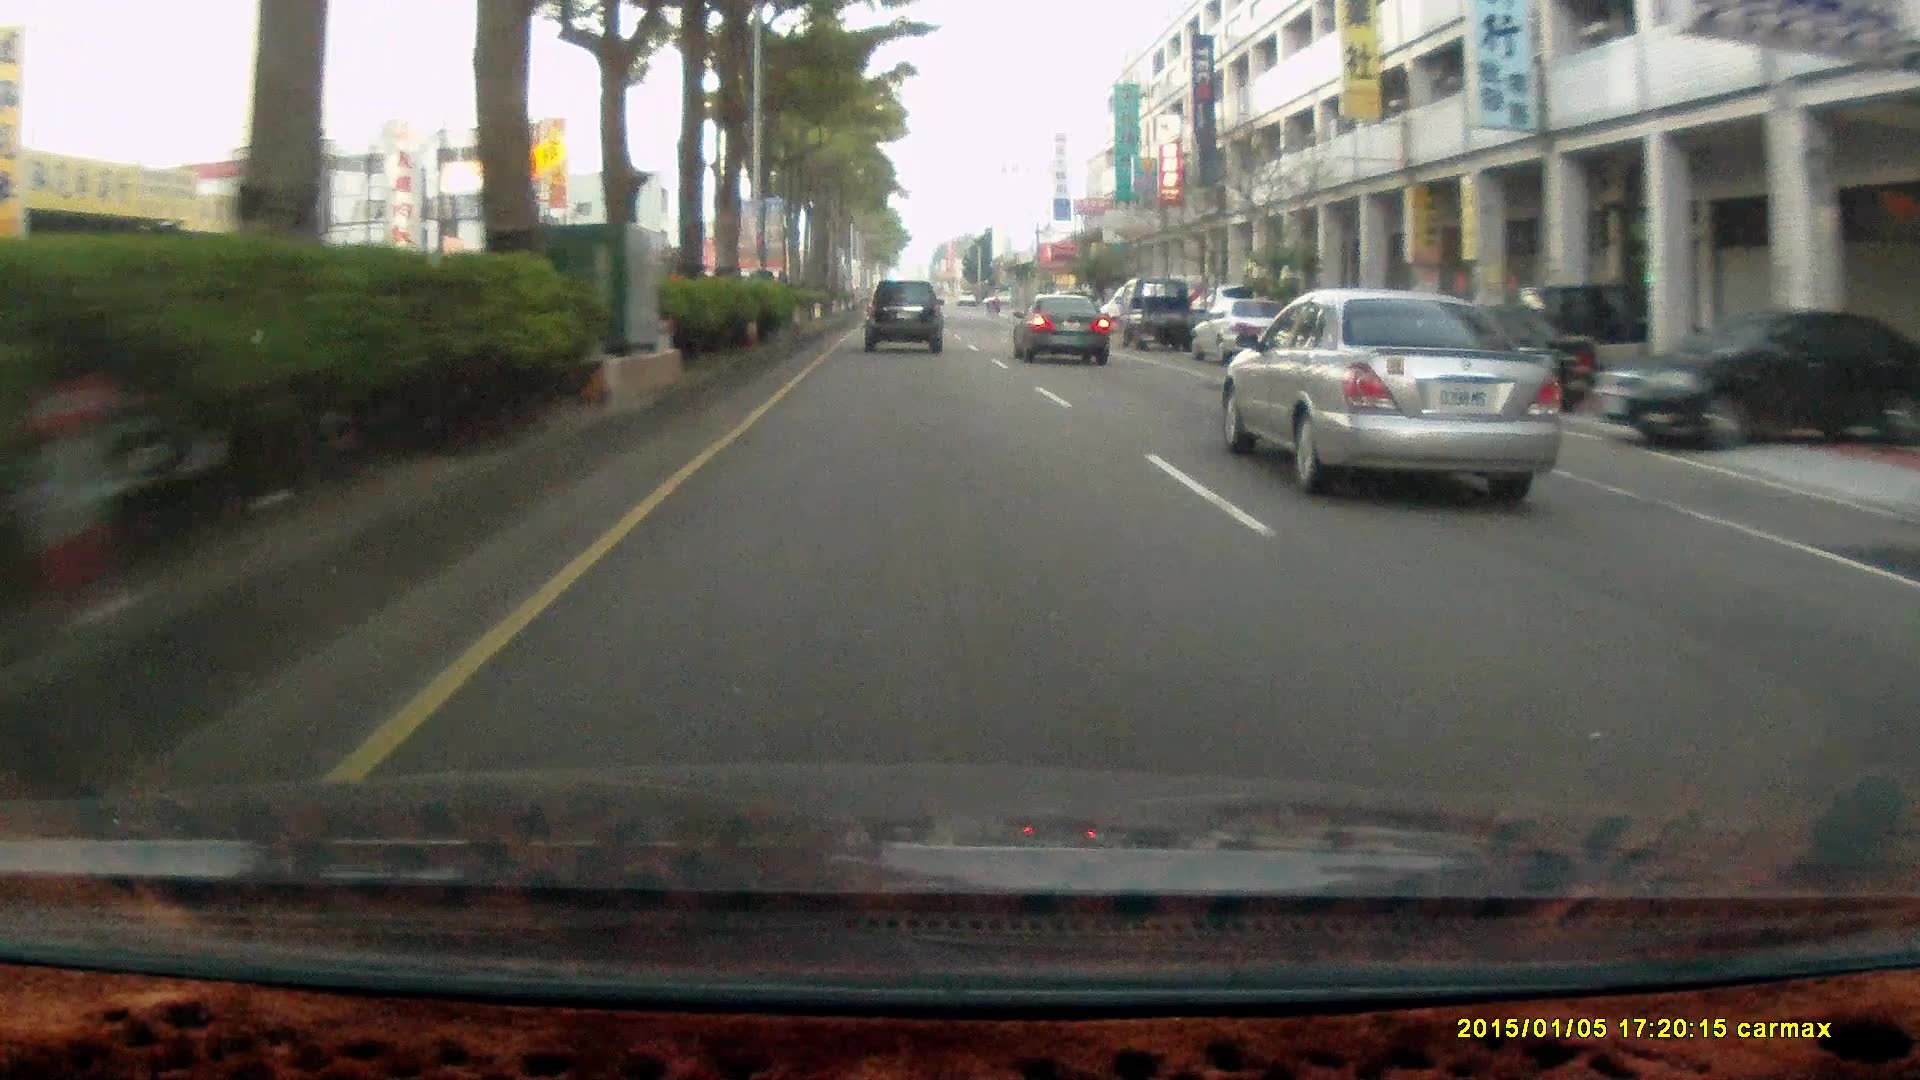vehicle: (1222, 286, 1564, 495), (1610, 309, 1916, 459), (1592, 311, 1920, 448), (1367, 301, 1600, 419), (1187, 297, 1302, 369), (1197, 298, 1307, 371), (1116, 278, 1211, 357), (1011, 291, 1112, 363), (1018, 297, 1117, 368), (1116, 274, 1203, 349), (864, 281, 947, 357), (861, 280, 944, 349)
